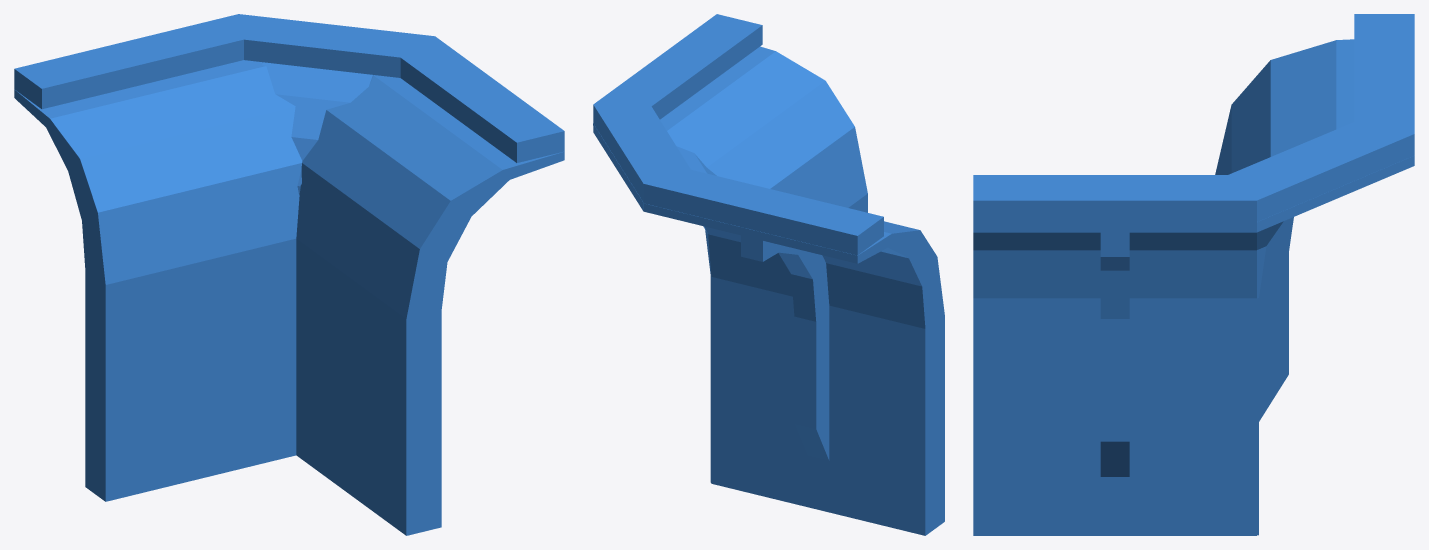
The model's file is Collision_Overhang_WoodBrick_Corner.fbx.
The picture shows the model from 3 angles, left to right: view 1: azimuth 30°, elevation 25°; view 2: azimuth 150°, elevation 25°; view 3: azimuth 270°, elevation 25°; orthographic projection. The views are drawn at different scales.
Visible parts, largest first — view 1: UCX_Overhang_WoodBrick_Corner_01; view 2: UCX_Overhang_WoodBrick_Corner_01; view 3: UCX_Overhang_WoodBrick_Corner_01.
Boxes of the visible parts, x1,y1,x2,y2 form: UCX_Overhang_WoodBrick_Corner_01: (14, 14, 564, 535); UCX_Overhang_WoodBrick_Corner_01: (593, 14, 944, 535); UCX_Overhang_WoodBrick_Corner_01: (973, 14, 1414, 535).
Size of the model in its own units: 311 by 312 by 311.
